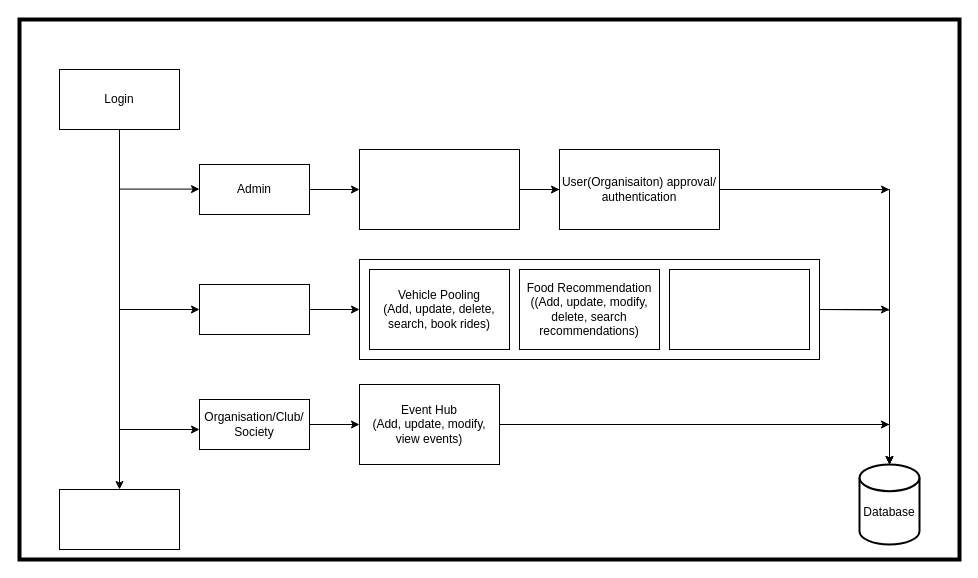
This 978x578 diagram has some shape labels left out. Here are the shapes that lost their labels. From the top down, the centre of each, then its label:
At point 439,189: "Insert, delete, update, and manage all data".
At point 254,309: "Student".
At point 739,309: "Event Hub (View Events)".
At point 119,519: "Logout".
